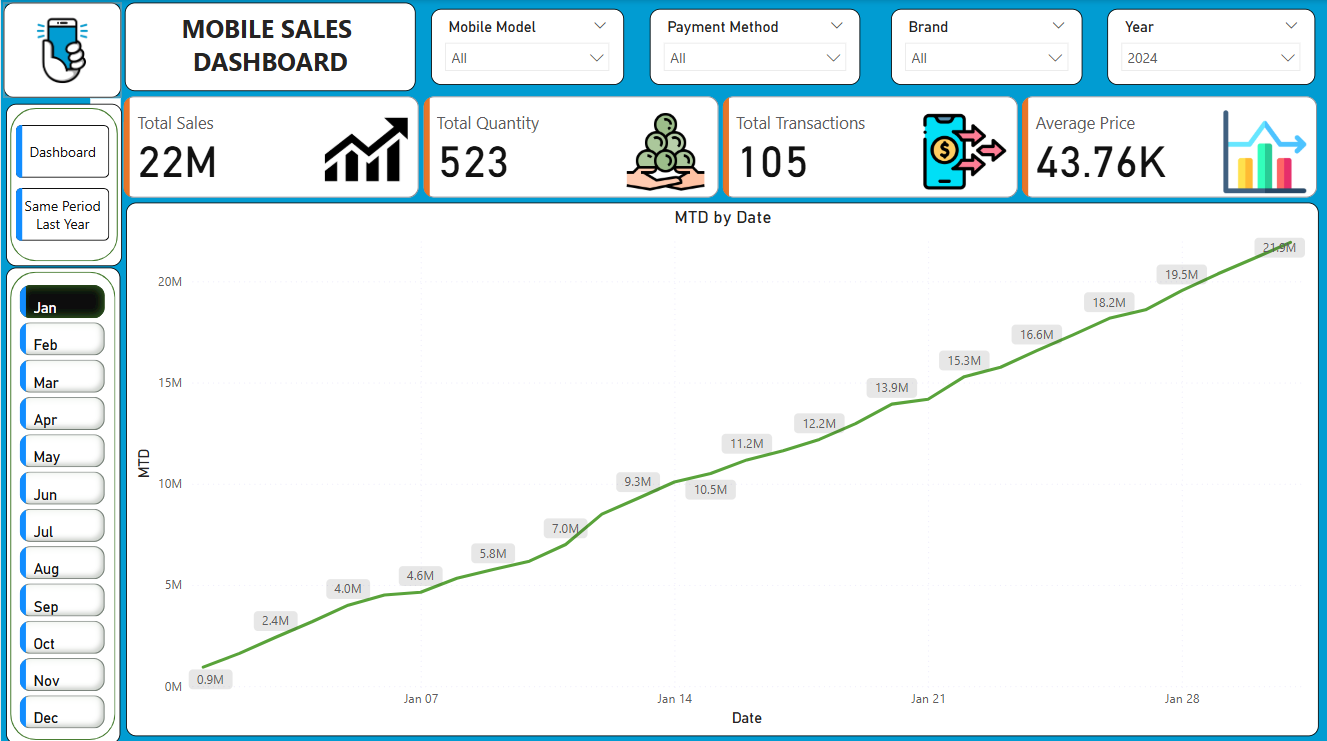

The page's visual inventory and layout, read from the dashboard file:
{"tool":"powerbi","page":{"name":"MTD Report","canvas":[1280,720],"ordinal":1},"visuals":[{"type":"image","box":[2.4,2.4,113.4,91.7],"z":0},{"type":"shape","box":[4.3,99.6,112.4,156.4],"z":1000},{"type":"lineChart","fields":{"Y":["Measure_Table.MTD"],"Category":["DateTable.Date Hierarchy.Date","DateTable.Date Hierarchy.Year","DateTable.Date Hierarchy.Quarter","DateTable.Date Hierarchy.Month Name","DateTable.Date Hierarchy.Day Number"]},"box":[120.6,195.4,1150.9,515.2],"z":2000},{"type":"shape","box":[4.6,258.4,110.1,460.3],"z":3000},{"type":"slicer","fields":{"Values":["Sales.Mobile Model"]},"box":[415.5,8.3,186.1,73.6],"z":4000},{"type":"slicer","fields":{"Values":["Sales.Payment Method"]},"box":[626.2,8.3,203.4,73.6],"z":5000},{"type":"slicer","fields":{"Values":["Sales.Brand"]},"box":[858.4,8.3,184.7,73.6],"z":6000},{"type":"slicer","fields":{"Values":["DateTable.Year"]},"box":[1067.6,8.3,200.5,73.6],"z":7000},{"type":"pageNavigator","box":[14.4,121.2,90.9,112.5],"z":8000},{"type":"advancedSlicerVisual","fields":{"Values":["DateTable.Month Short Name"]},"box":[13,269.8,92.3,444.4],"z":9000},{"type":"cardVisual","fields":{"Data":["Measure_Table.Total_Sales","Measure_Table.Total_Quantity","Measure_Table.Total_Transactions","Measure_Table.Average_Price"]},"box":[113.4,88.5,1163.2,108.7],"z":10000},{"type":"textbox","box":[119.4,2.4,281.1,85.7],"z":11000}]}

Visuals, with their boxes in screenshot pixels (x1, y1, x2, y2), scaled from the page's 1280x720 canvas onto the 1327x741 screenshot:
image: region(2, 2, 120, 97)
shape: region(4, 103, 121, 263)
lineChart - Measure_Table.MTD x DateTable.Date Hierarchy.Date: region(125, 201, 1318, 731)
shape: region(5, 266, 119, 740)
slicer - Sales.Mobile Model: region(431, 9, 624, 84)
slicer - Sales.Payment Method: region(649, 9, 860, 84)
slicer - Sales.Brand: region(890, 9, 1081, 84)
slicer - DateTable.Year: region(1107, 9, 1315, 84)
pageNavigator: region(15, 125, 109, 241)
advancedSlicerVisual - DateTable.Month Short Name: region(13, 278, 109, 735)
cardVisual - Measure_Table.Total_Sales x Measure_Table.Total_Quantity: region(118, 91, 1323, 203)
textbox: region(124, 2, 415, 91)
